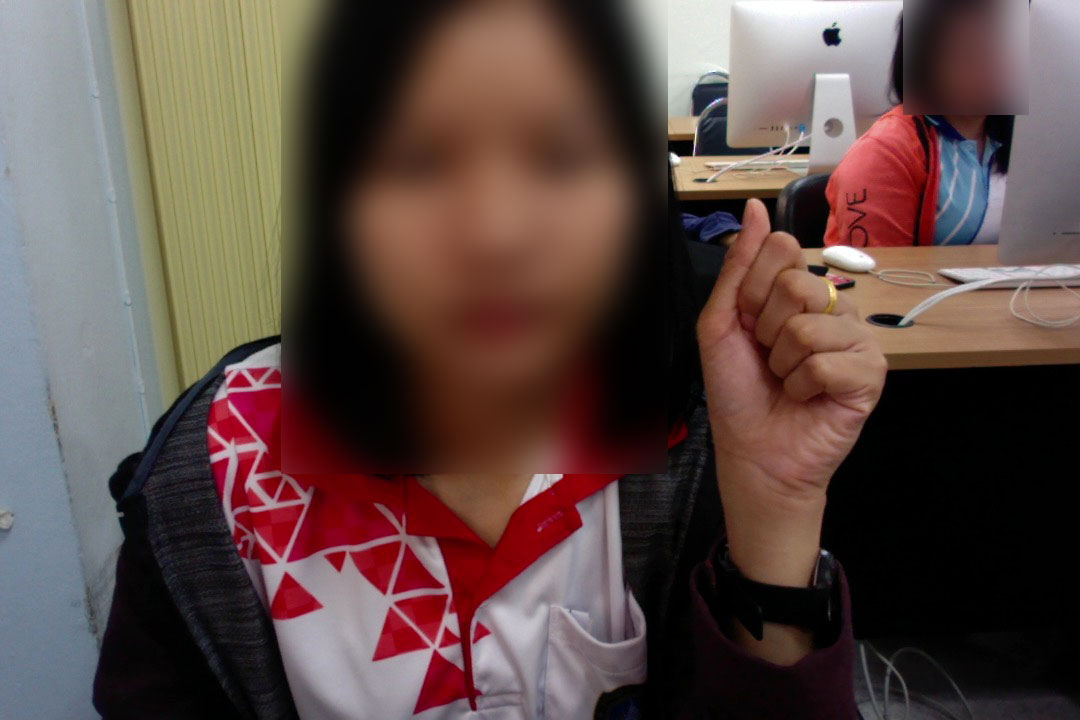or: (679, 187, 894, 496)
